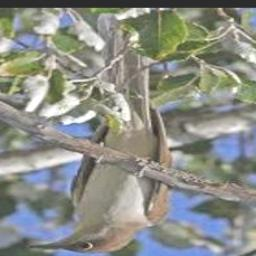Cuckoo: (30, 22, 173, 253)
